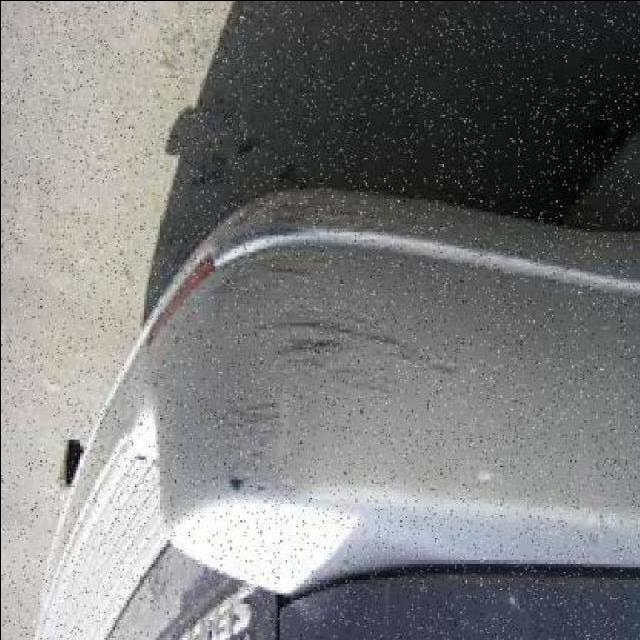rear-bumper-dent: (60, 163, 640, 589)
